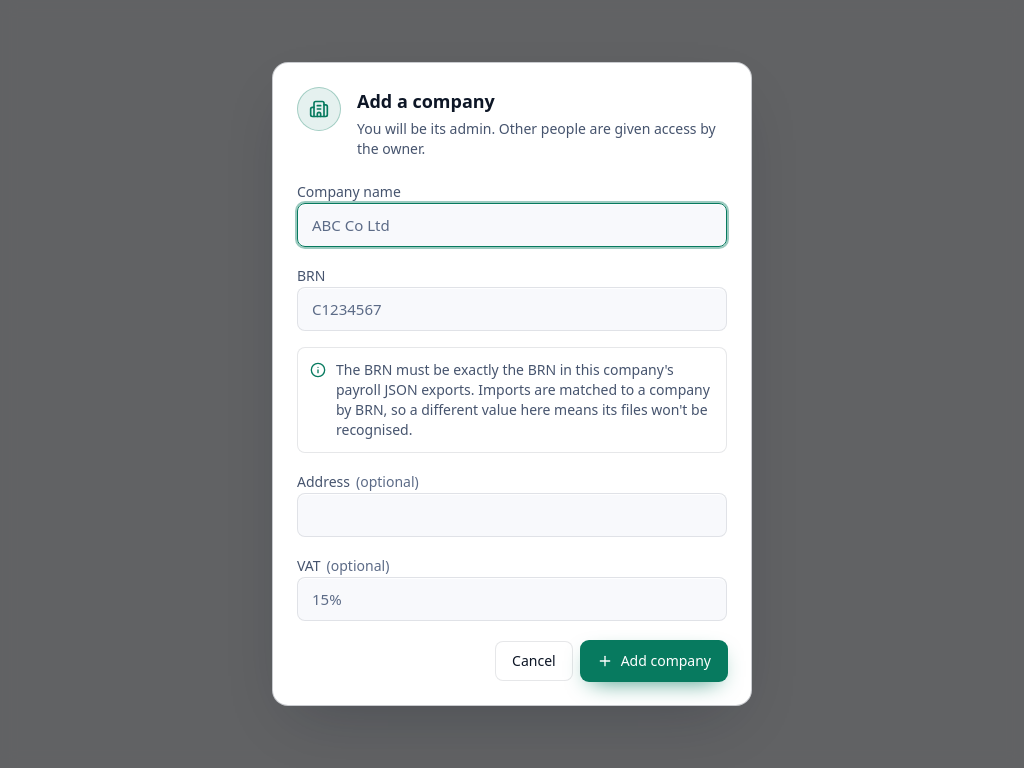
Test case: <AddCompanyDialog> › explains {"code":"42501","message":"PH_NOT_ADMIN"}
This screenshot has width=1024, height=768.
Type "New Venture Ltd" into the field labelled "Company name".
click(512, 225); type("New Venture Ltd")  # box [297,203,727,247]
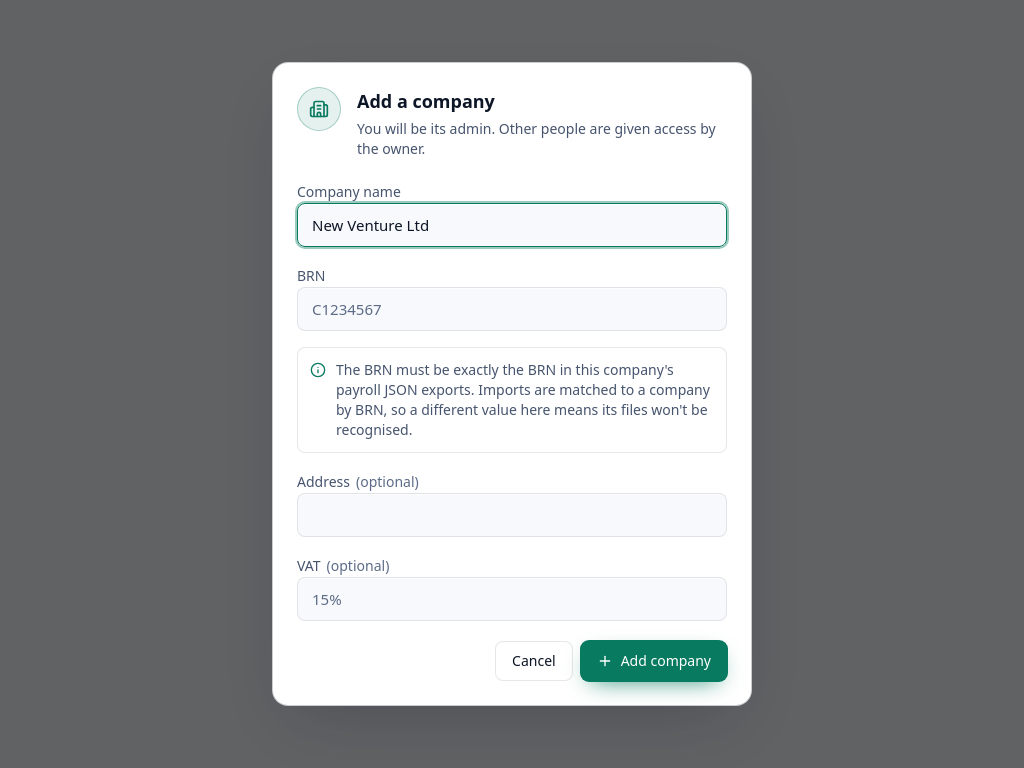
Type "C7654321" into the field labelled "BRN".
click(512, 309); type("C7654321")  # box [297,287,727,331]
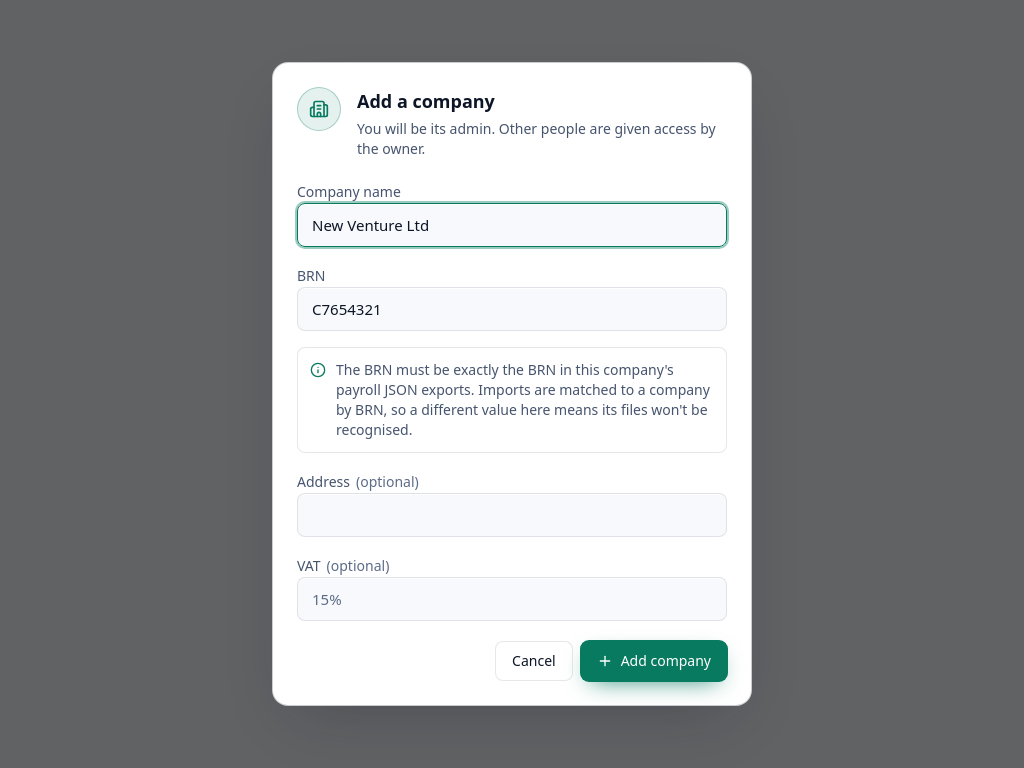
Click the button "Add company".
click(654, 661)  # box [581,641,727,681]
(page scrolled)
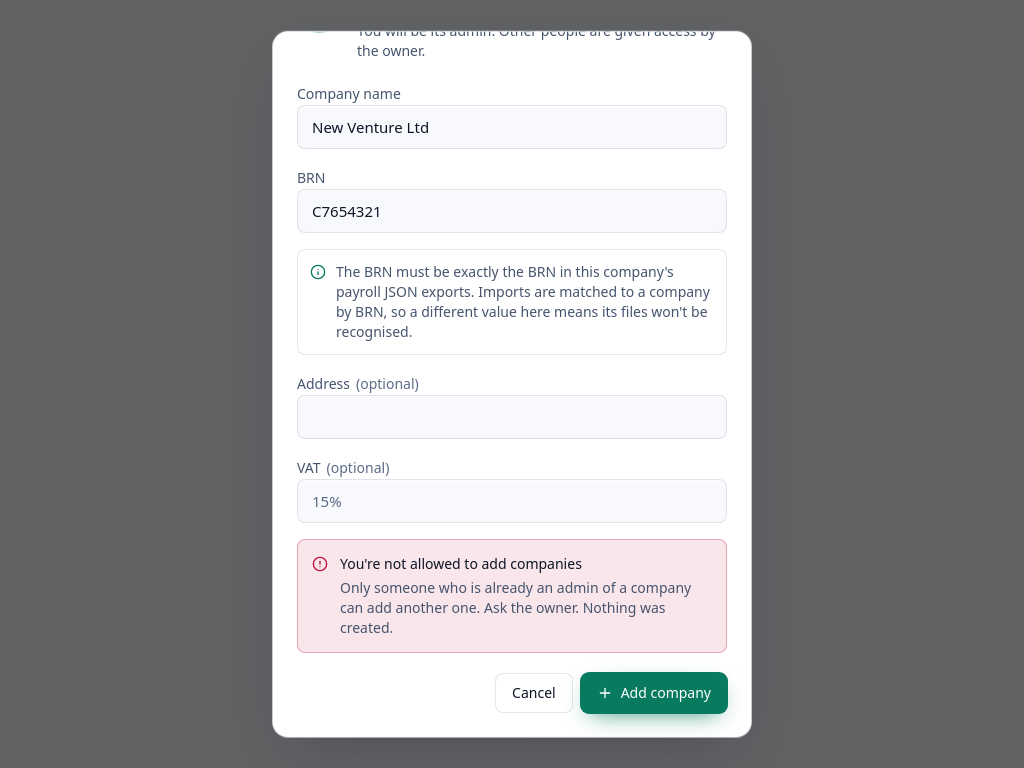
expect the dialog is shown: met, box [272,31,752,737]
expect the message shows "You're not allowed to add companies": met, box [340,554,582,573]
